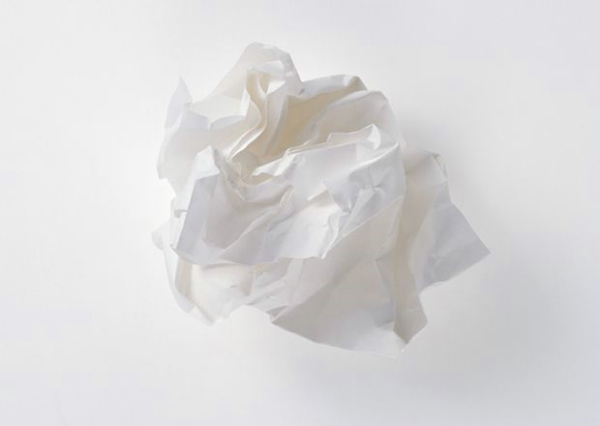flexible: (136, 41, 493, 353)
